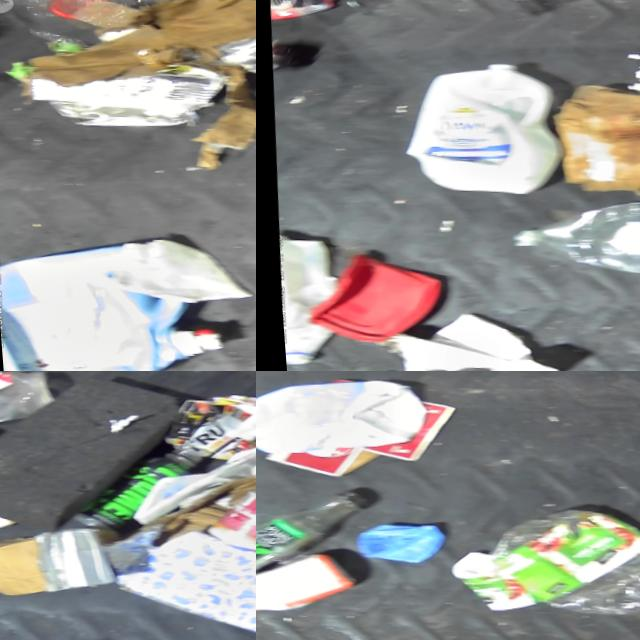can: (198, 487, 256, 559)
milk_jug: (398, 59, 555, 204), (256, 374, 415, 465), (272, 232, 329, 368)
non_white_jug: (0, 232, 227, 371)
plastic_bottle: (256, 485, 367, 587), (508, 202, 640, 280)
